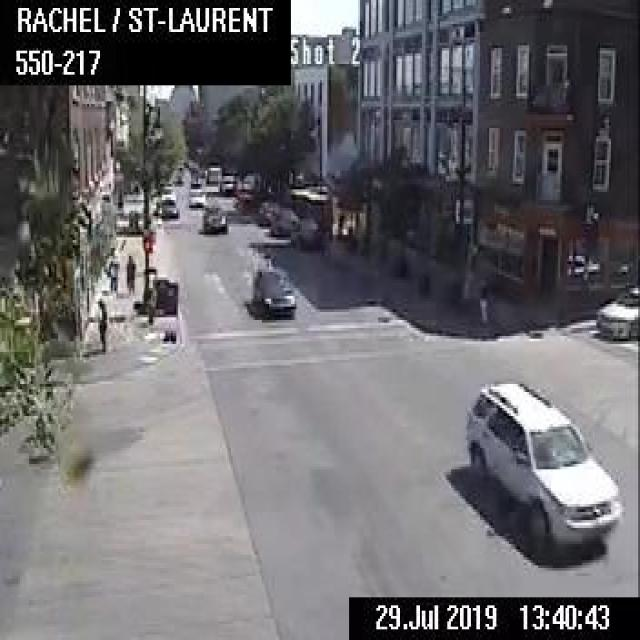pedestrian: (94, 296, 106, 352), (107, 256, 118, 296), (124, 253, 134, 296)
vehicle: (462, 379, 624, 544), (593, 283, 638, 336), (249, 264, 295, 315), (291, 216, 323, 248), (268, 205, 297, 235), (201, 202, 226, 229), (158, 194, 176, 215), (218, 172, 236, 192), (187, 186, 204, 205), (204, 165, 220, 182), (189, 170, 200, 184)
